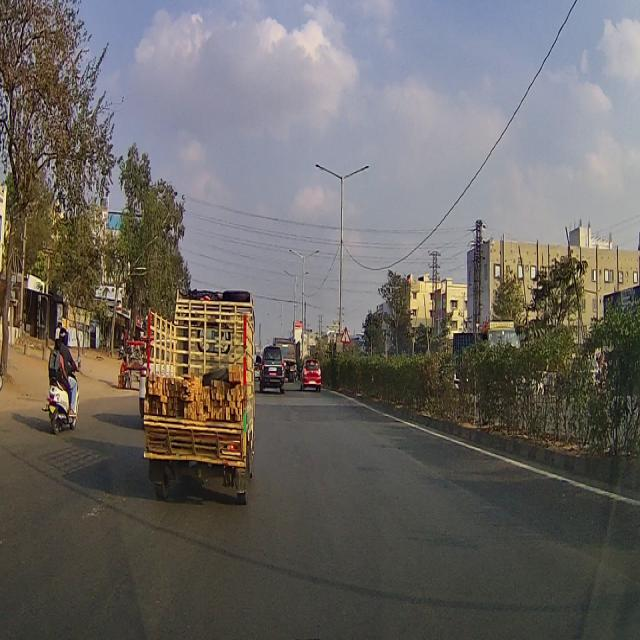gap-in-median: (339, 321, 352, 347)
